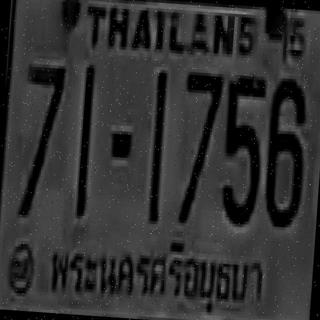N01: (146, 68, 167, 222), (74, 61, 95, 213)
N05: (217, 70, 266, 224)
N06: (261, 74, 308, 225)
N07: (16, 59, 65, 215), (175, 68, 222, 222), (18, 59, 65, 180)
P03: (42, 225, 270, 320)
